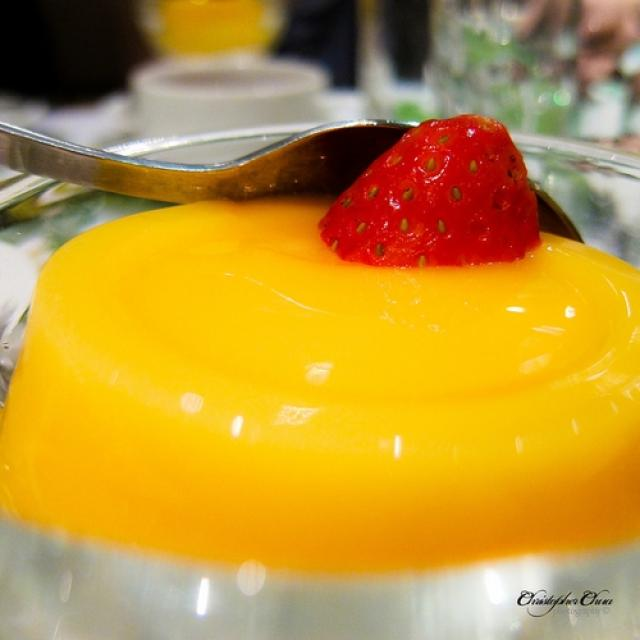蛋糕甜品: (1, 130, 638, 602)
